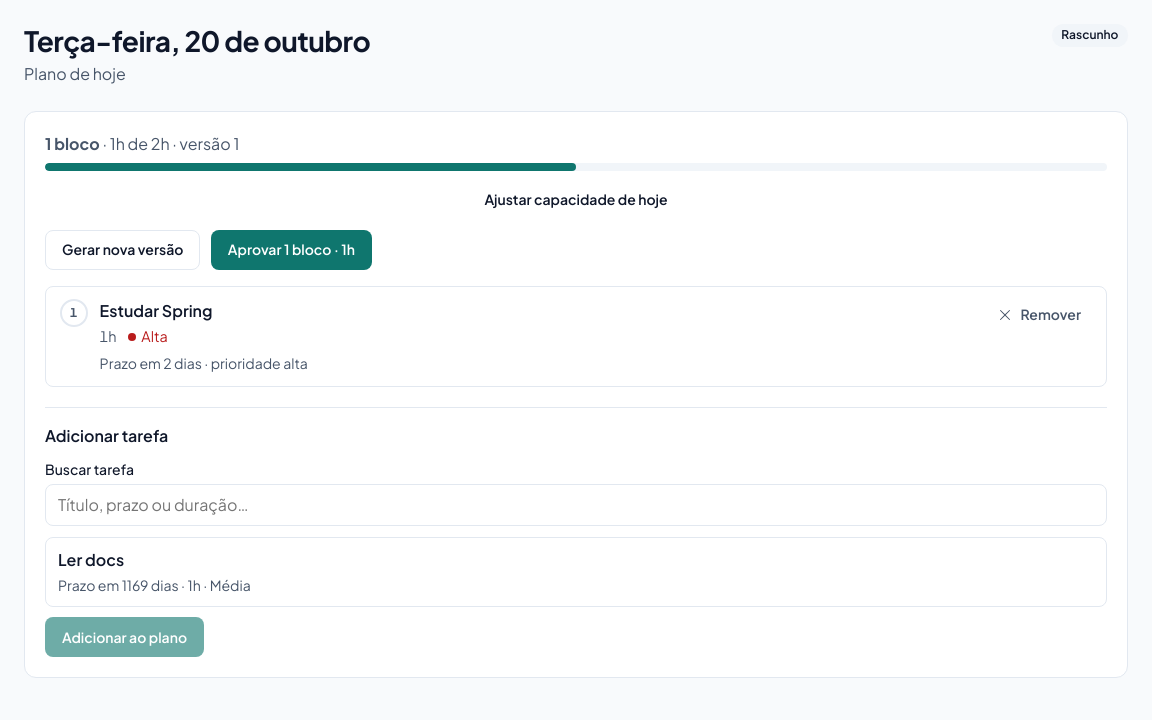
Test: HomePage — plano do dia › F3 — remover bloco › remove bloco do rascunho e atualiza a lista
Click the button with aria-label "remover estudar spring" at [1039, 315], box [985, 299, 1092, 331]
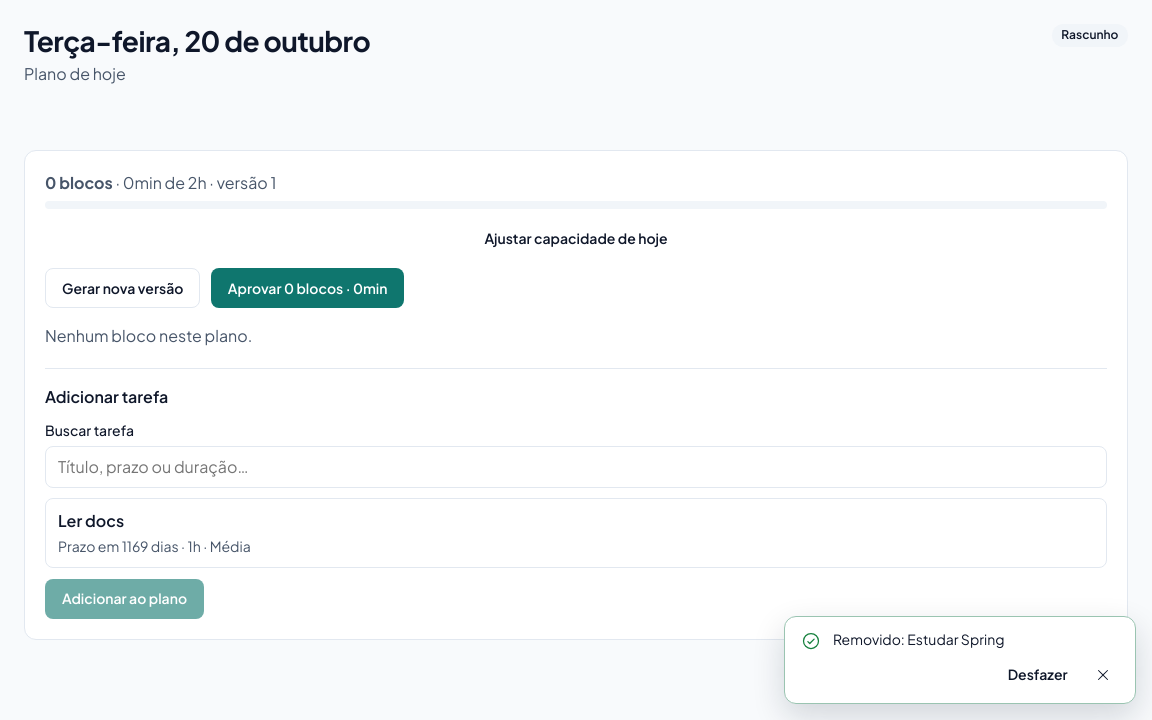
expect the text "Nenhum bloco neste plano." is shown: met, box [45, 326, 252, 346]
